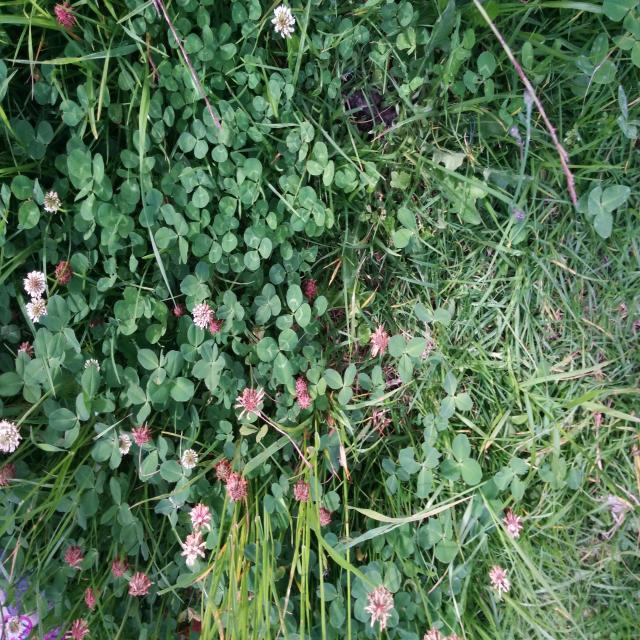Four Leaf Clover: (192, 343, 224, 390), (91, 423, 122, 468), (216, 290, 244, 332), (254, 283, 281, 325)
